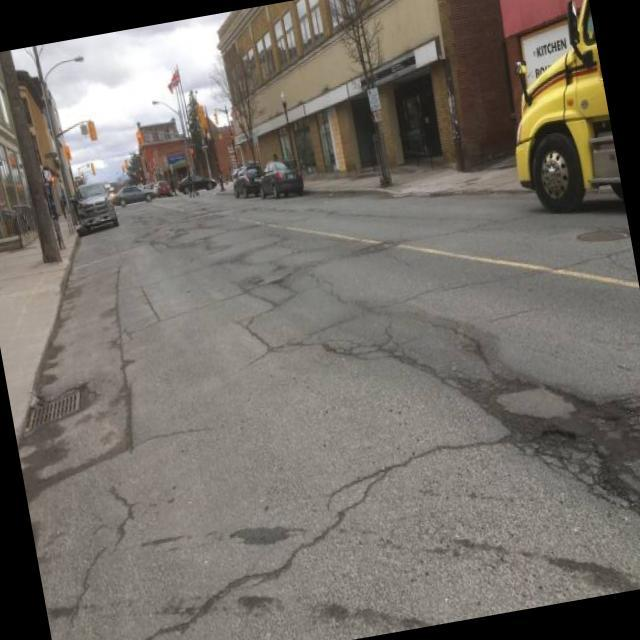Pothole: (541, 415, 581, 450)
